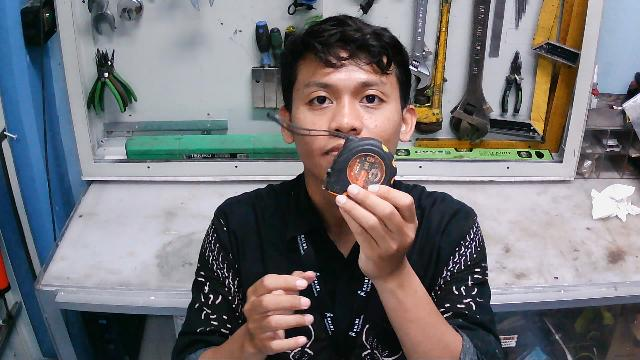meteran: (323, 126, 399, 204)
